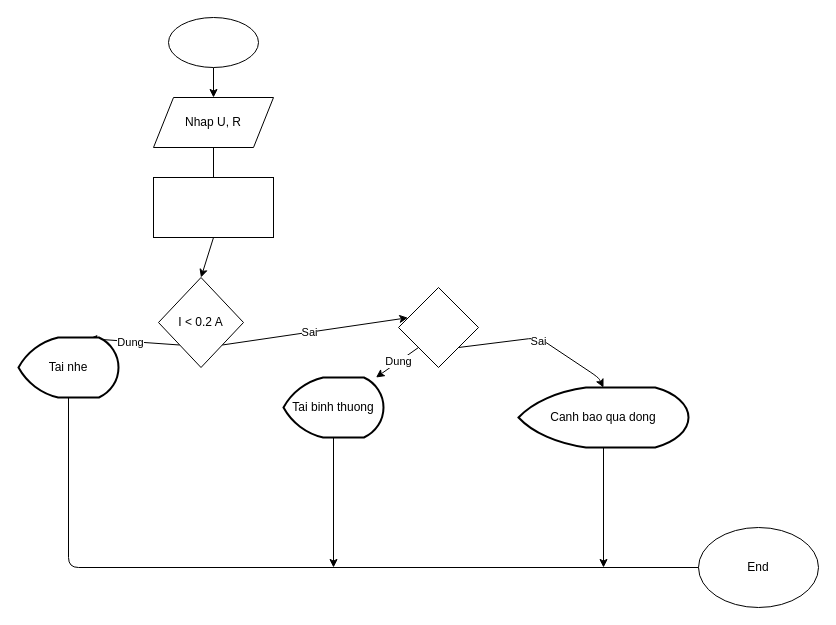
The diagram is 836 pixels wide and 625 high, and some of its shapes have lost their labels. Here are the shapes that lost their labels. From the top down, the centre of each, then its label:
At [213,42]: "Start".
At [213,207]: "I = U/R".
At [438,327]: "I<=1 A".
